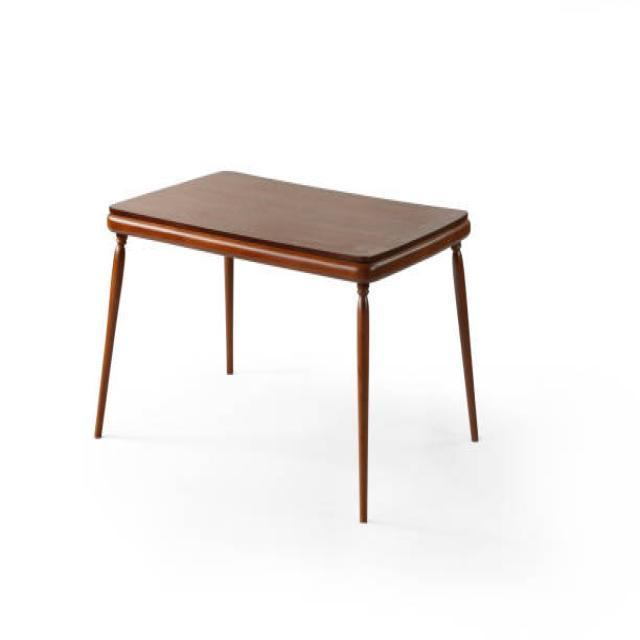table: (93, 168, 479, 522)
